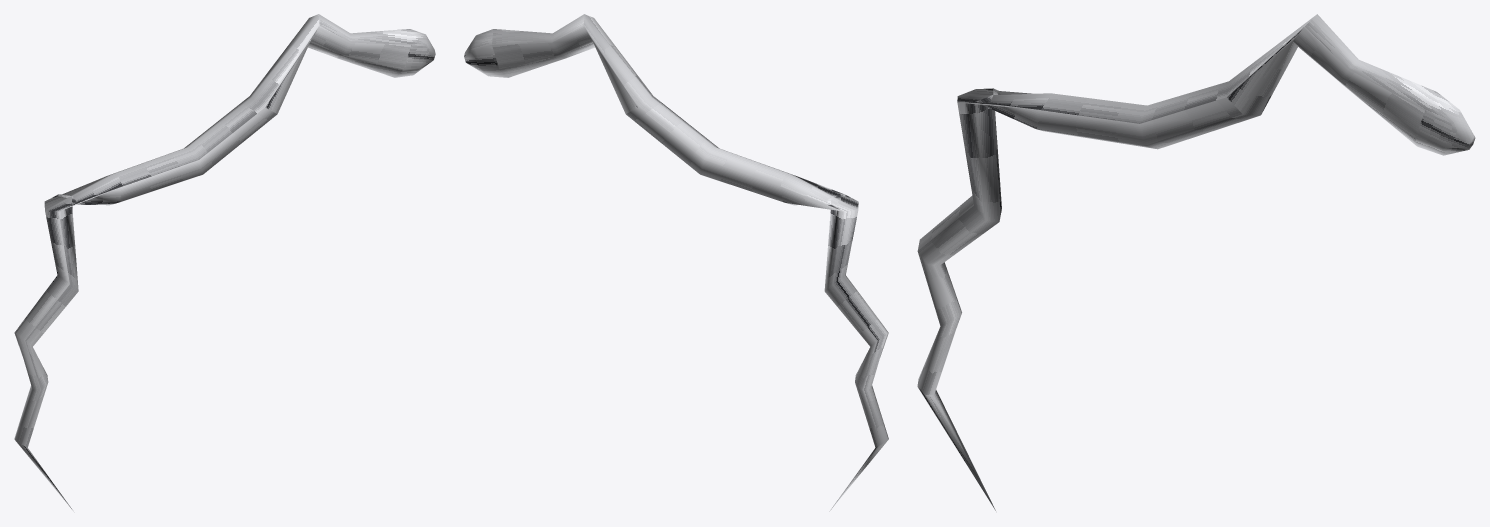
Rendered from snake_000049.obj.
3 views of the same model, side by side, from view 1: azimuth 30°, elevation 25°; view 2: azimuth 150°, elevation 25°; view 3: azimuth 330°, elevation 25° (orthographic). The views are drawn at different scales.
Visible parts, largest first — view 1: Cylinder; view 2: Cylinder; view 3: Cylinder.
Boxes of the visible parts, <box> form: Cylinder: <box>14,14,435,509</box>; Cylinder: <box>464,14,888,511</box>; Cylinder: <box>917,14,1475,510</box>.
Bounding box in the file's own units: 5.75 × 5.73 × 0.3671.
